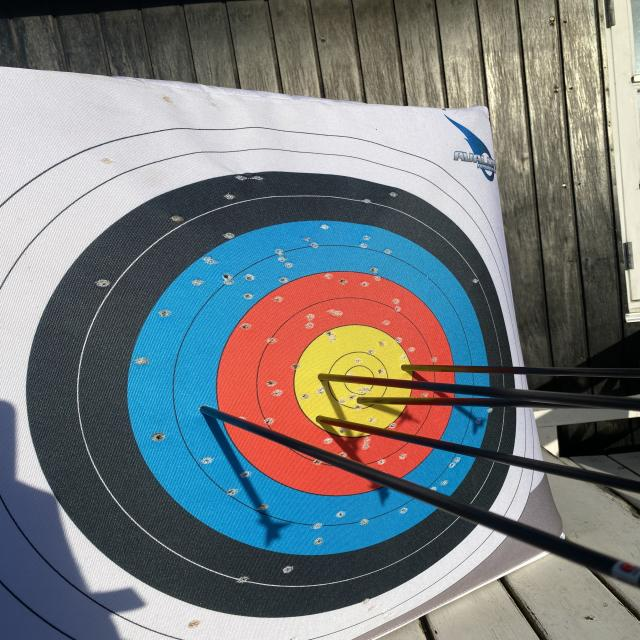Arrow_Blue: (190, 396, 224, 425)
Arrow_Yellow: (392, 356, 426, 381), (311, 365, 338, 396), (347, 388, 376, 412), (307, 410, 339, 430)
